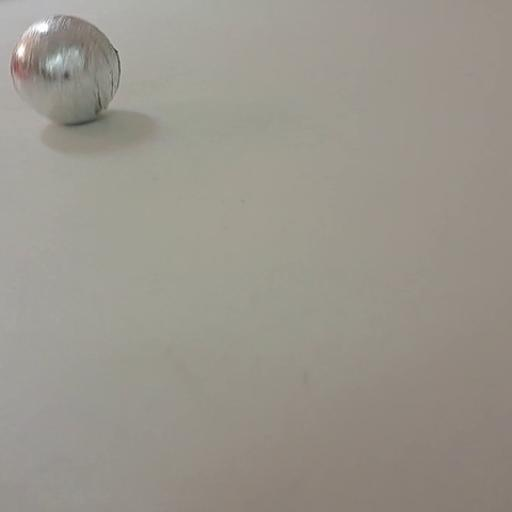alive: (9, 14, 123, 125)
